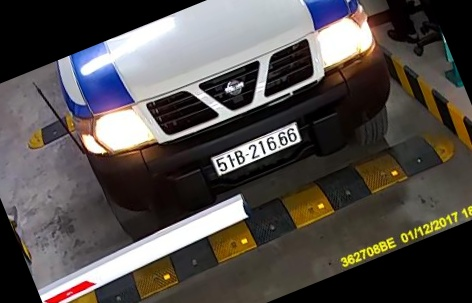plate: (209, 124, 305, 178)
